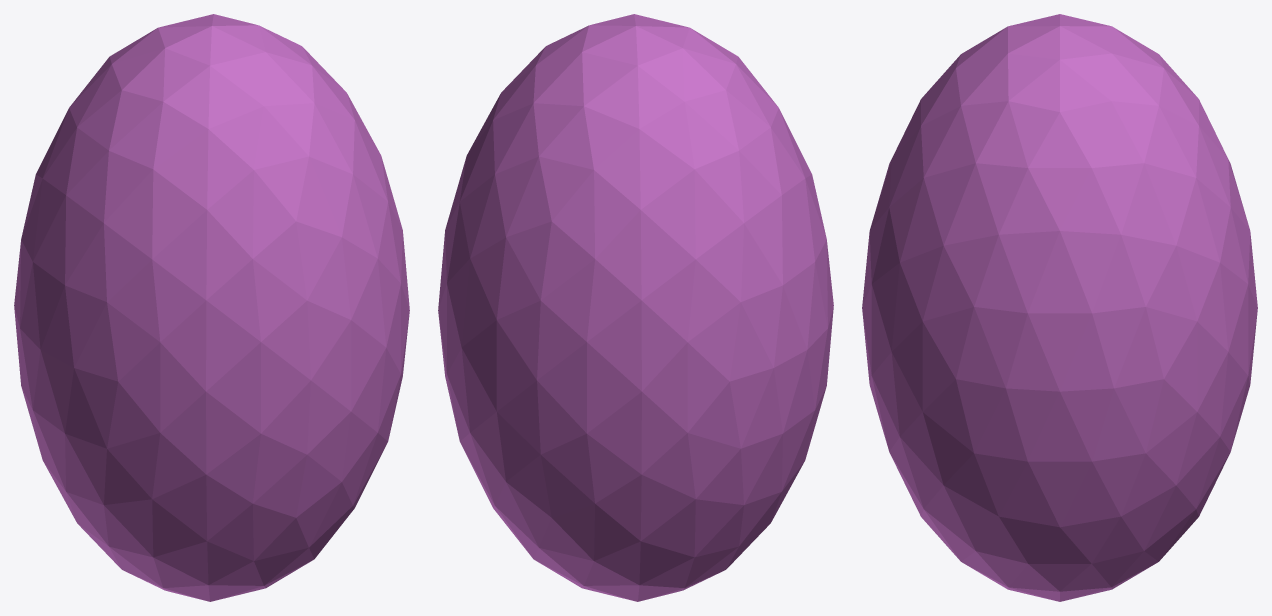
File: tech_136.glb
3 renders of one model, left to right at view 1: azimuth 30°, elevation 25°; view 2: azimuth 150°, elevation 25°; view 3: azimuth 270°, elevation 25°, orthographic.
Parts seen in each view (by area): view 1: world; view 2: world; view 3: world.
Boxes of the visible parts, x1=… form: world: x1=14, y1=14, x2=409, y2=601; world: x1=438, y1=14, x2=833, y2=601; world: x1=862, y1=14, x2=1257, y2=601.
Bounding box in the file's own units: 1.05 × 1.65 × 1.05.
